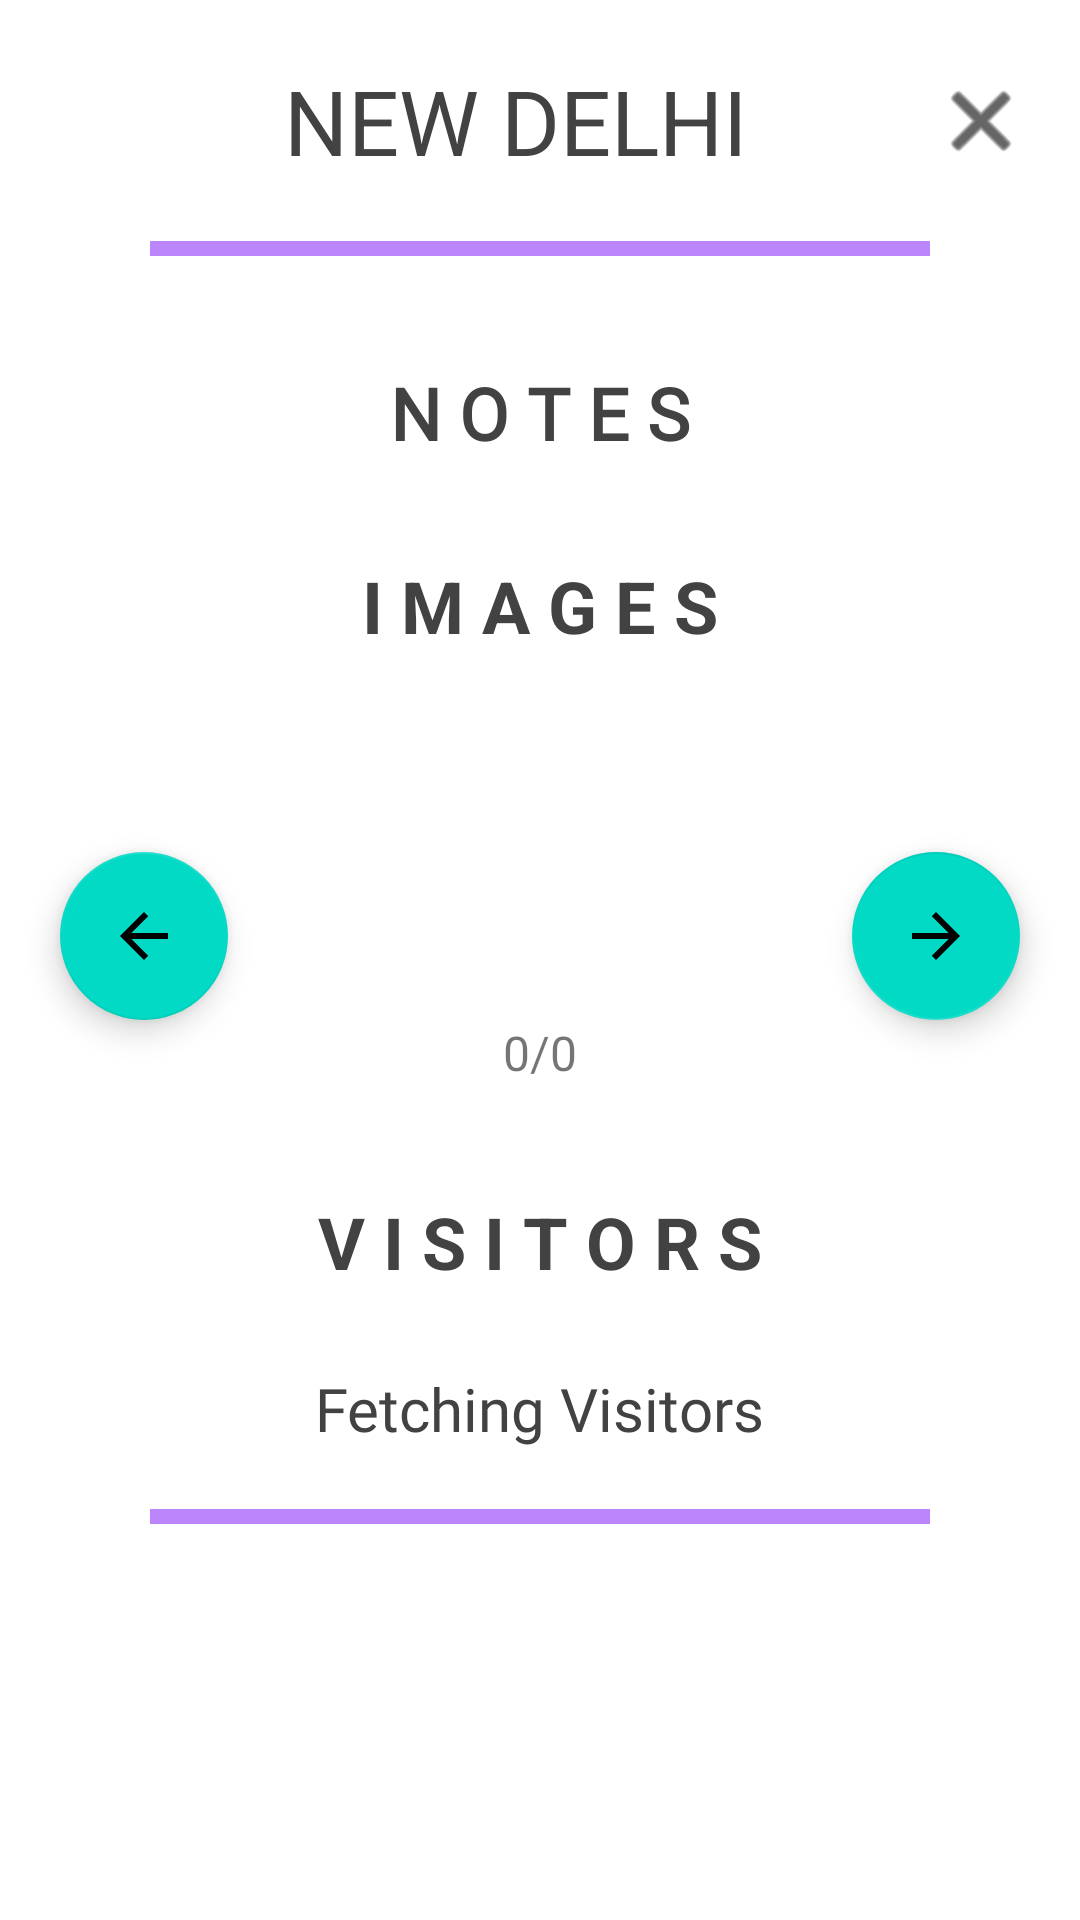

Icon bounding boxes for this 1080x1920 phone screenshot, format (x1, y1, x2, y2):
close clear cancel: (951, 91, 1011, 151)
